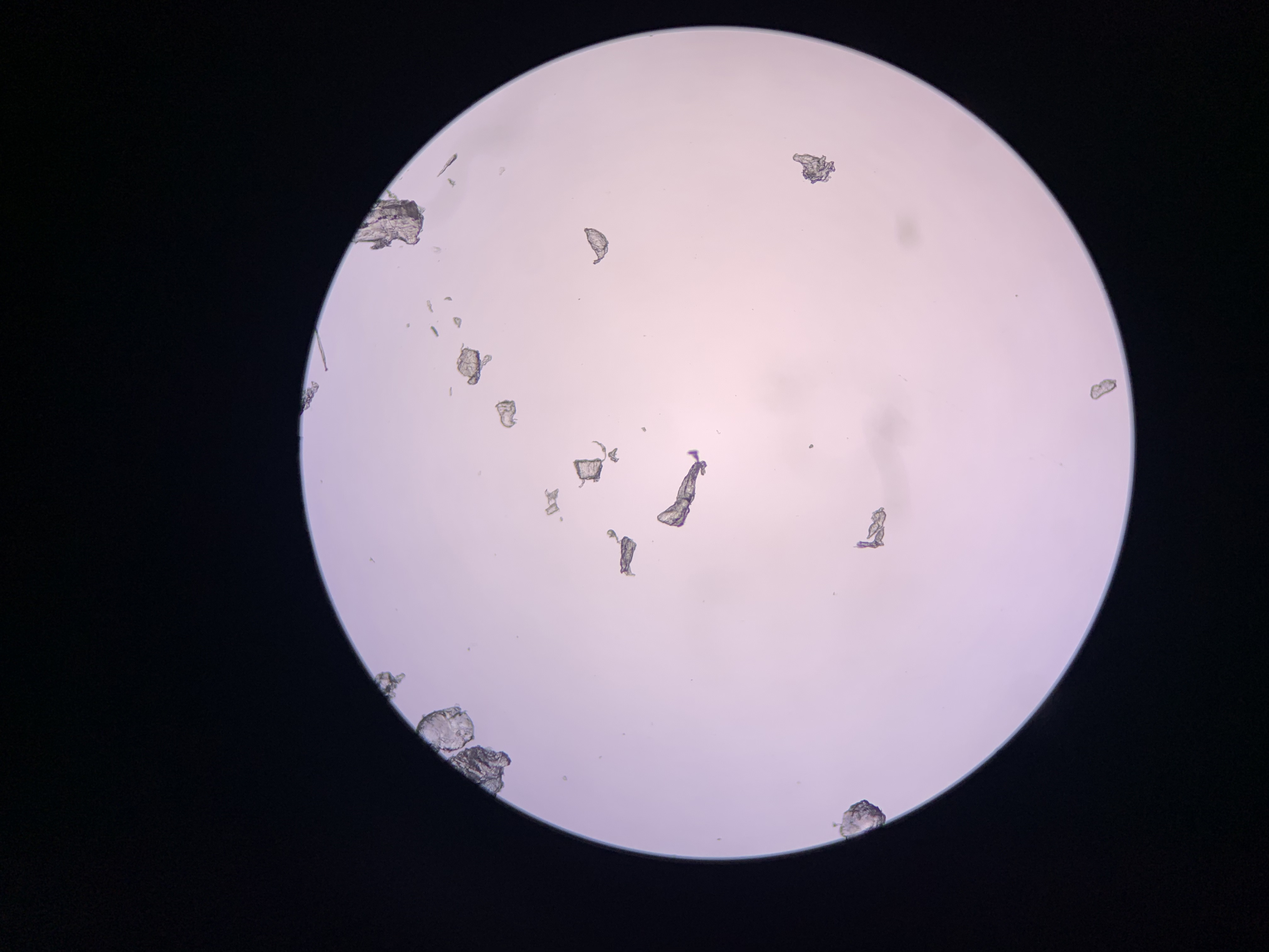microplastic: (349, 189, 426, 250), (657, 450, 707, 527), (444, 745, 512, 798), (415, 706, 475, 754), (832, 799, 886, 840), (573, 441, 606, 488), (457, 343, 492, 385), (606, 529, 637, 576), (853, 507, 887, 549), (792, 153, 836, 184), (373, 671, 405, 701), (584, 228, 609, 264), (299, 381, 319, 419), (315, 322, 329, 371), (495, 399, 518, 428), (1090, 379, 1117, 400), (436, 153, 458, 177), (545, 488, 560, 515), (607, 448, 620, 463), (426, 300, 434, 313), (453, 317, 462, 328), (430, 326, 439, 337), (448, 178, 456, 188), (443, 297, 452, 301), (809, 444, 814, 449), (641, 427, 647, 431)
